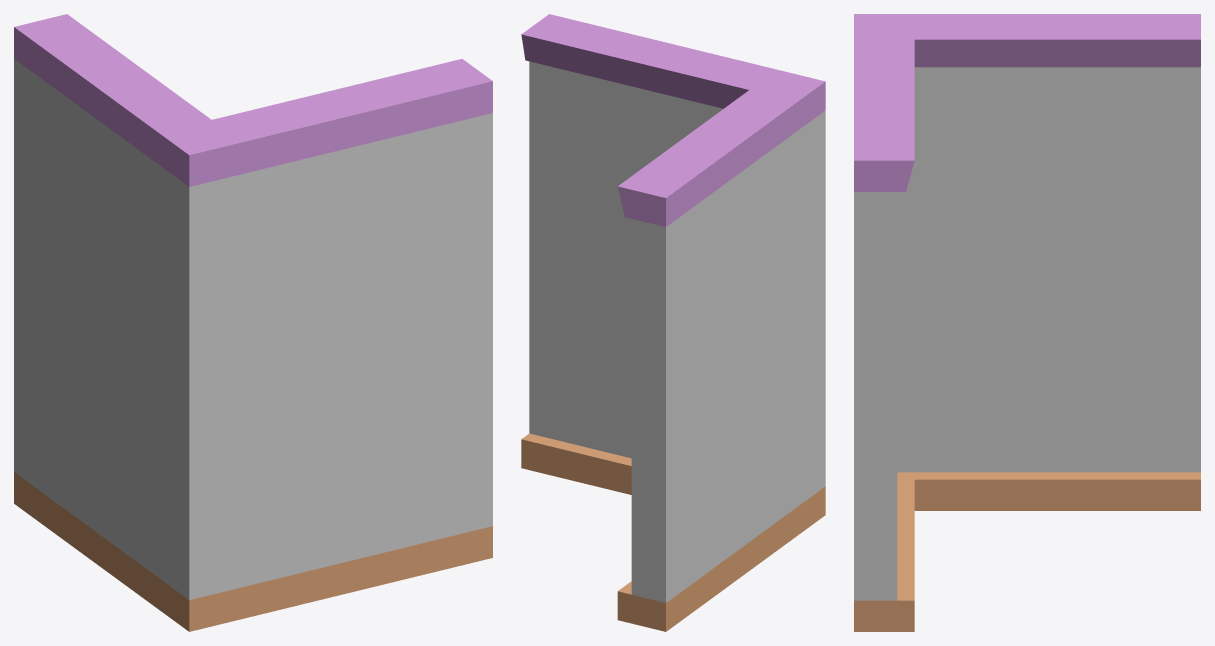
Rendered from Wall_Corner.glb.
3 views of the same model, side by side, from view 1: azimuth 30°, elevation 25°; view 2: azimuth 150°, elevation 25°; view 3: azimuth 270°, elevation 25° (orthographic). The views are drawn at different scales.
Visible parts, largest first — view 1: Corner_wall; view 2: Corner_wall; view 3: Corner_wall.
Part boxes in pixels (x1,y1,x2,y2): Corner_wall: (14, 14, 492, 631); Corner_wall: (521, 14, 825, 631); Corner_wall: (854, 14, 1200, 631).
Size of the model in its own units: 2 by 3 by 2.
